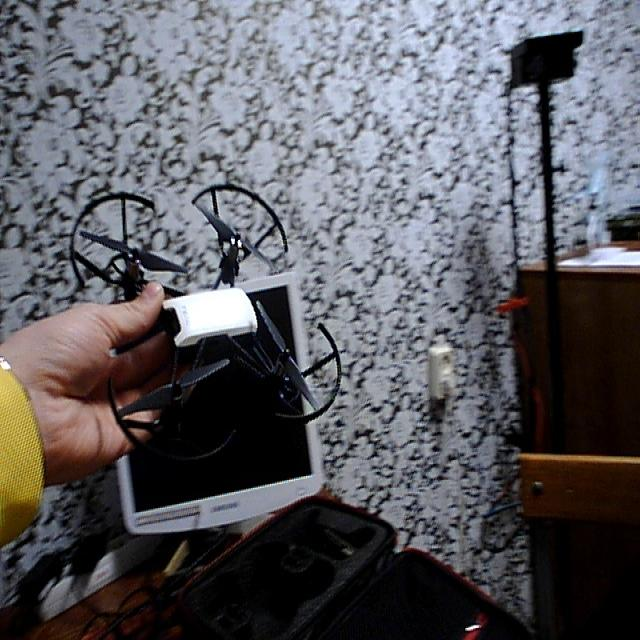drone: (60, 174, 350, 474)
